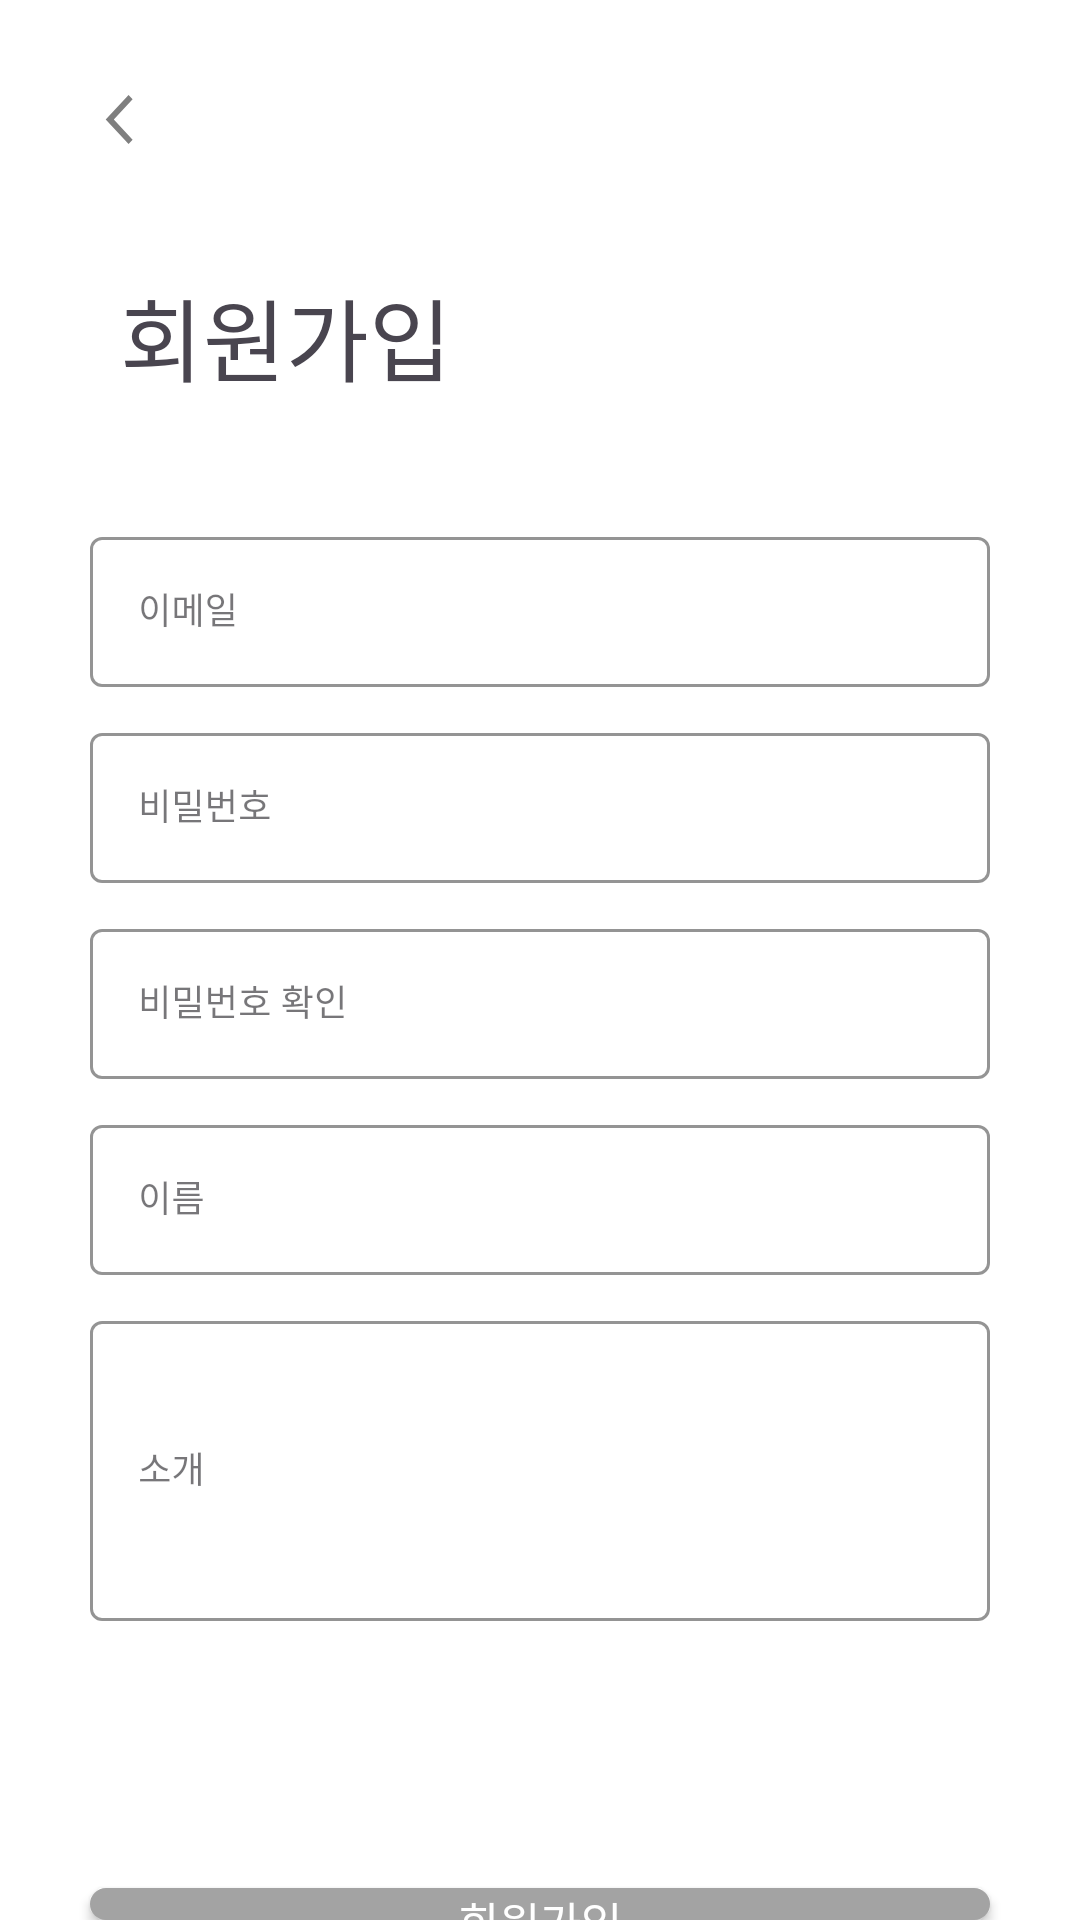

Point at icon controls on the screen. Image size 1080*1920, points as point (x, y).
arrow back: point (119, 119)
